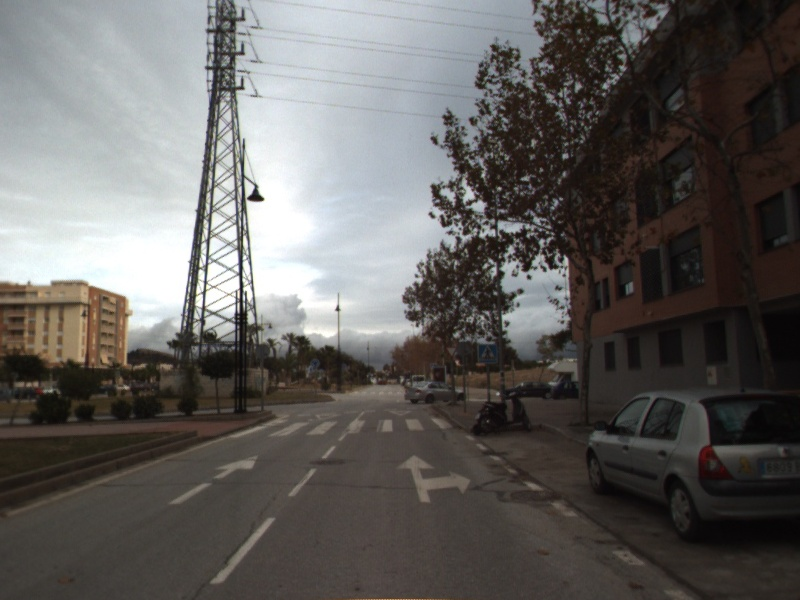STRAIGHT: (167, 453, 260, 506)
STRAIGHT_RIGHT: (394, 452, 472, 505)
